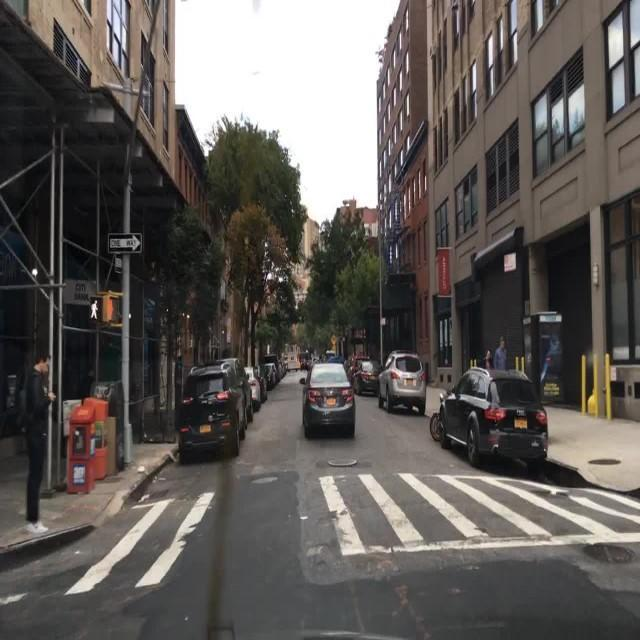normal: (429, 368, 550, 472), (176, 364, 253, 462), (298, 364, 355, 439), (378, 350, 428, 413), (352, 358, 380, 395)
